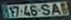1: (7, 5, 14, 17)
4: (22, 4, 31, 17)
6: (29, 4, 38, 16)
7: (12, 5, 19, 17)
A: (50, 3, 62, 15)
S: (39, 3, 51, 16)
